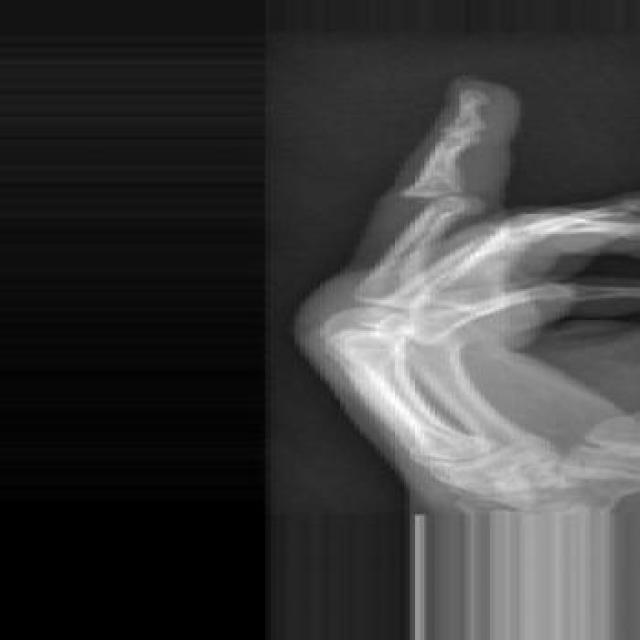Fracture: (381, 185, 504, 212)
